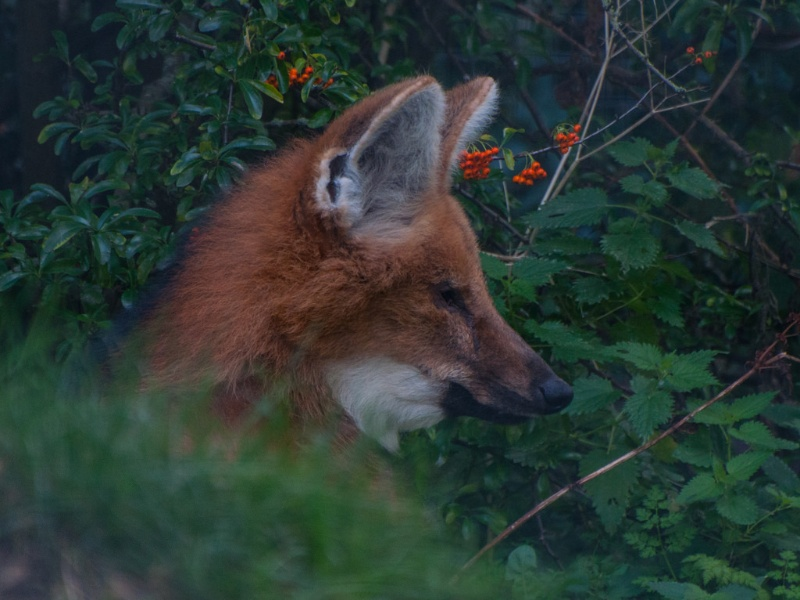fox: (18, 66, 575, 570)
